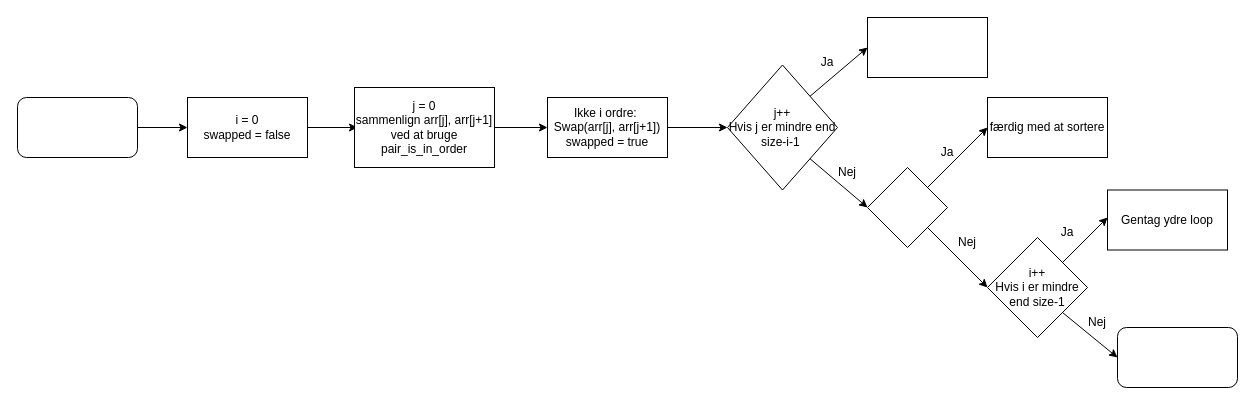
Some shapes in this 1255 by 405 pixel diagram are drawn without their labels. Here are the shapes that lost their labels. From the top down, the box of each, then its label:
(866, 16, 988, 78): Sammenlign igen
(16, 96, 138, 158): start
(866, 166, 948, 248): Hvis: swapped == false
(1116, 326, 1238, 388): end
